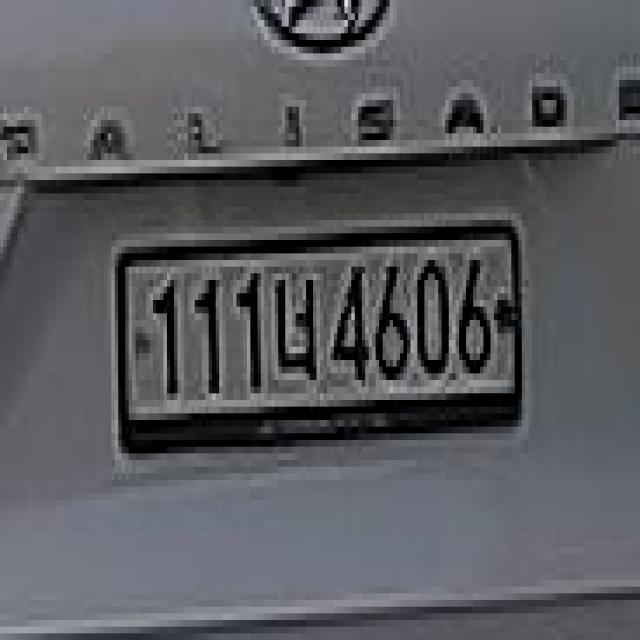illegal_plate: (108, 215, 532, 462)
